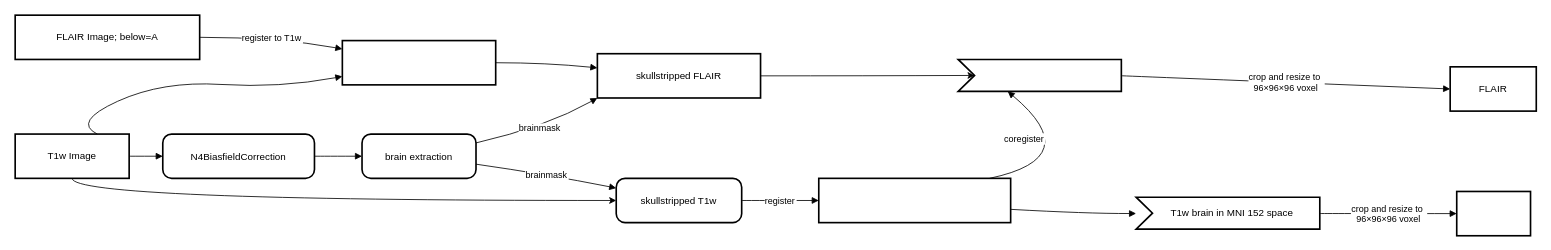
Some shapes in this 1551 by 250 pixel diagram are drawn without their labels. Here are the shapes that lost their labels. From the top down, the centre of each, then its label:
point (418, 62): Registered FLAIR
point (1039, 75): FLAIR in MNI 152 space
point (914, 200): MNI 152 standard space
point (1493, 213): T1w
